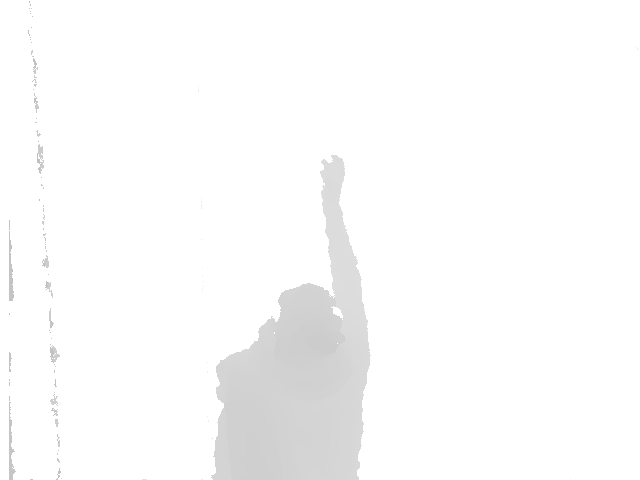hand: (317, 154, 347, 206)
head: (269, 284, 348, 362)
person: (211, 153, 373, 479)
